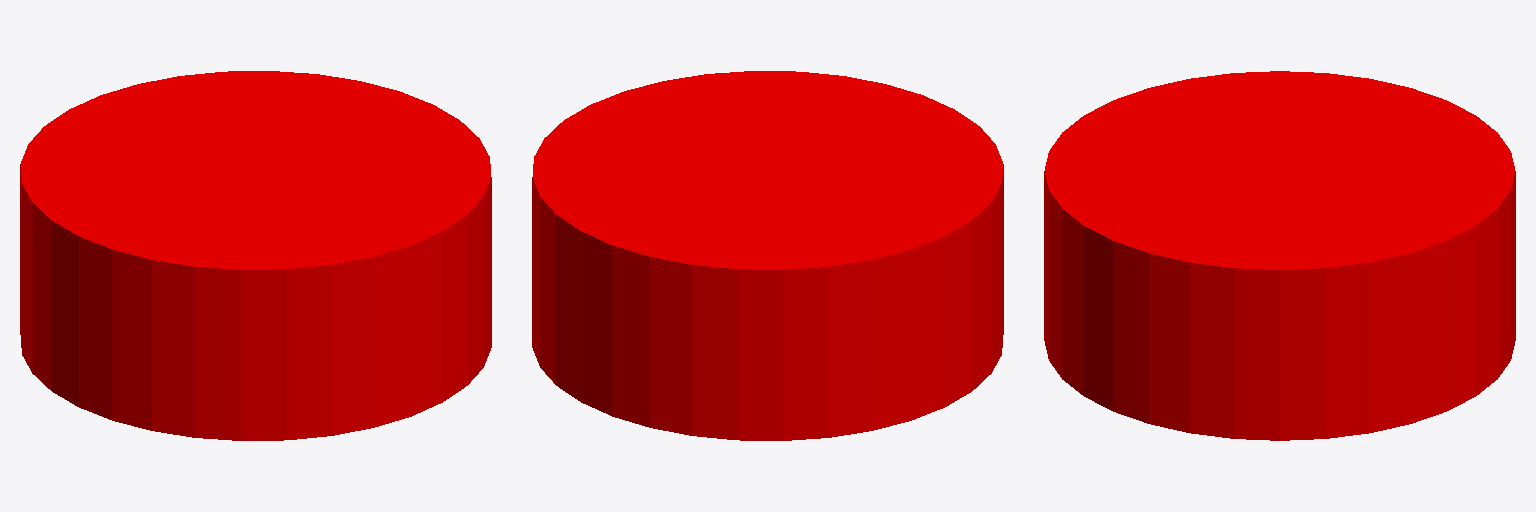
The robot description file, URDF, robot "simple_disk":
<?xml version="1.0" ?>
<robot name="simple_disk">

  <!-- World link (virtual anchor) -->
  <link name="world">
    <inertial>
      <origin xyz="0 0 0" rpy="0 0 0"/>
      <mass value="0.001"/>
      <inertia ixx="1e-6" ixy="0" ixz="0" iyy="1e-6" iyz="0" izz="1e-6"/>
    </inertial>
  </link>

  <!-- Intermediate link for X movement -->
  <link name="intermediate">
    <inertial>
      <origin xyz="0 0 0" rpy="0 0 0"/>
      <mass value="0.001"/>
      <inertia ixx="1e-6" ixy="0" ixz="0" iyy="1e-6" iyz="0" izz="1e-6"/>
    </inertial>
  </link>

  <!-- Main robot disk -->
  <link name="base_link">
    <visual>
      <origin xyz="0 0 0.01" rpy="0 0 0"/>
      <geometry>
        <cylinder radius="0.025" length="0.02"/>
      </geometry>
      <material name="red_material">
        <color rgba="1.0 0.0 0.0 1.0"/>
      </material>
    </visual>
    <collision>
      <origin xyz="0 0 0.05" rpy="0 0 0"/>
      <geometry>
        <cylinder radius="0.025" length="0.01"/>
      </geometry>
    </collision>
    <inertial>
      <origin xyz="0 0 0.01" rpy="0 0 0"/>
      <mass value="0.5"/>
      <inertia ixx="0.015" ixy="0" ixz="0" iyy="0.015" iyz="0" izz="0.0225"/>
    </inertial>
  </link>

  <!-- End-effector reference point -->
  <link name="ee_link">
    <inertial>
      <origin xyz="0 0 0" rpy="0 0 0"/>
      <mass value="0.001"/>
      <inertia ixx="1e-6" ixy="0" ixz="0" iyy="1e-6" iyz="0" izz="1e-6"/>
    </inertial>
  </link>

  <!-- Prismatic joint for X movement -->
  <joint name="joint_x" type="prismatic">
    <parent link="world"/>
    <child link="intermediate"/>
    <origin xyz="0 0 0" rpy="0 0 0"/>
    <axis xyz="1 0 0"/>
    <limit lower="-100" upper="100" velocity="1.0" effort="1"/>
    <dynamics damping="1.0"/>
  </joint>

  <!-- Prismatic joint for Y movement -->
  <joint name="joint_y" type="prismatic">
    <parent link="intermediate"/>
    <child link="base_link"/>
    <origin xyz="0 0 0" rpy="0 0 0"/>
    <axis xyz="0 1 0"/>
    <limit lower="-100" upper="100" velocity="1.0" effort="1"/>
    <dynamics damping="1.0"/>
  </joint>

  <!-- Fixed joint to end-effector -->
  <joint name="base_to_ee" type="fixed">
    <origin xyz="0 0 0" rpy="0 0 0"/>
    <parent link="base_link"/>
    <child link="ee_link"/>
  </joint>

</robot>

--- What the picture shows (computed from the rendered views, not written in the file) ---
The picture shows the robot from 3 angles, left to right: view 1: azimuth 30°, elevation 25°; view 2: azimuth 150°, elevation 25°; view 3: azimuth 270°, elevation 25°; orthographic projection.
Robot: simple_disk — 4 links, 3 joints (2 prismatic, 1 fixed); root link world; default pose: every joint at zero.
Links seen in each view (by area): view 1: base_link; view 2: base_link; view 3: base_link.
Boxes of the visible links, box(x1,y1,x2,y2) form: base_link: box(20, 71, 491, 440); base_link: box(532, 71, 1003, 440); base_link: box(1044, 71, 1515, 440).
Bounding box of the posed robot: 0.05 × 0.05 × 0.02 m (x, y, z).
Geometry: primitives only (box / cylinder / sphere), no mesh files.